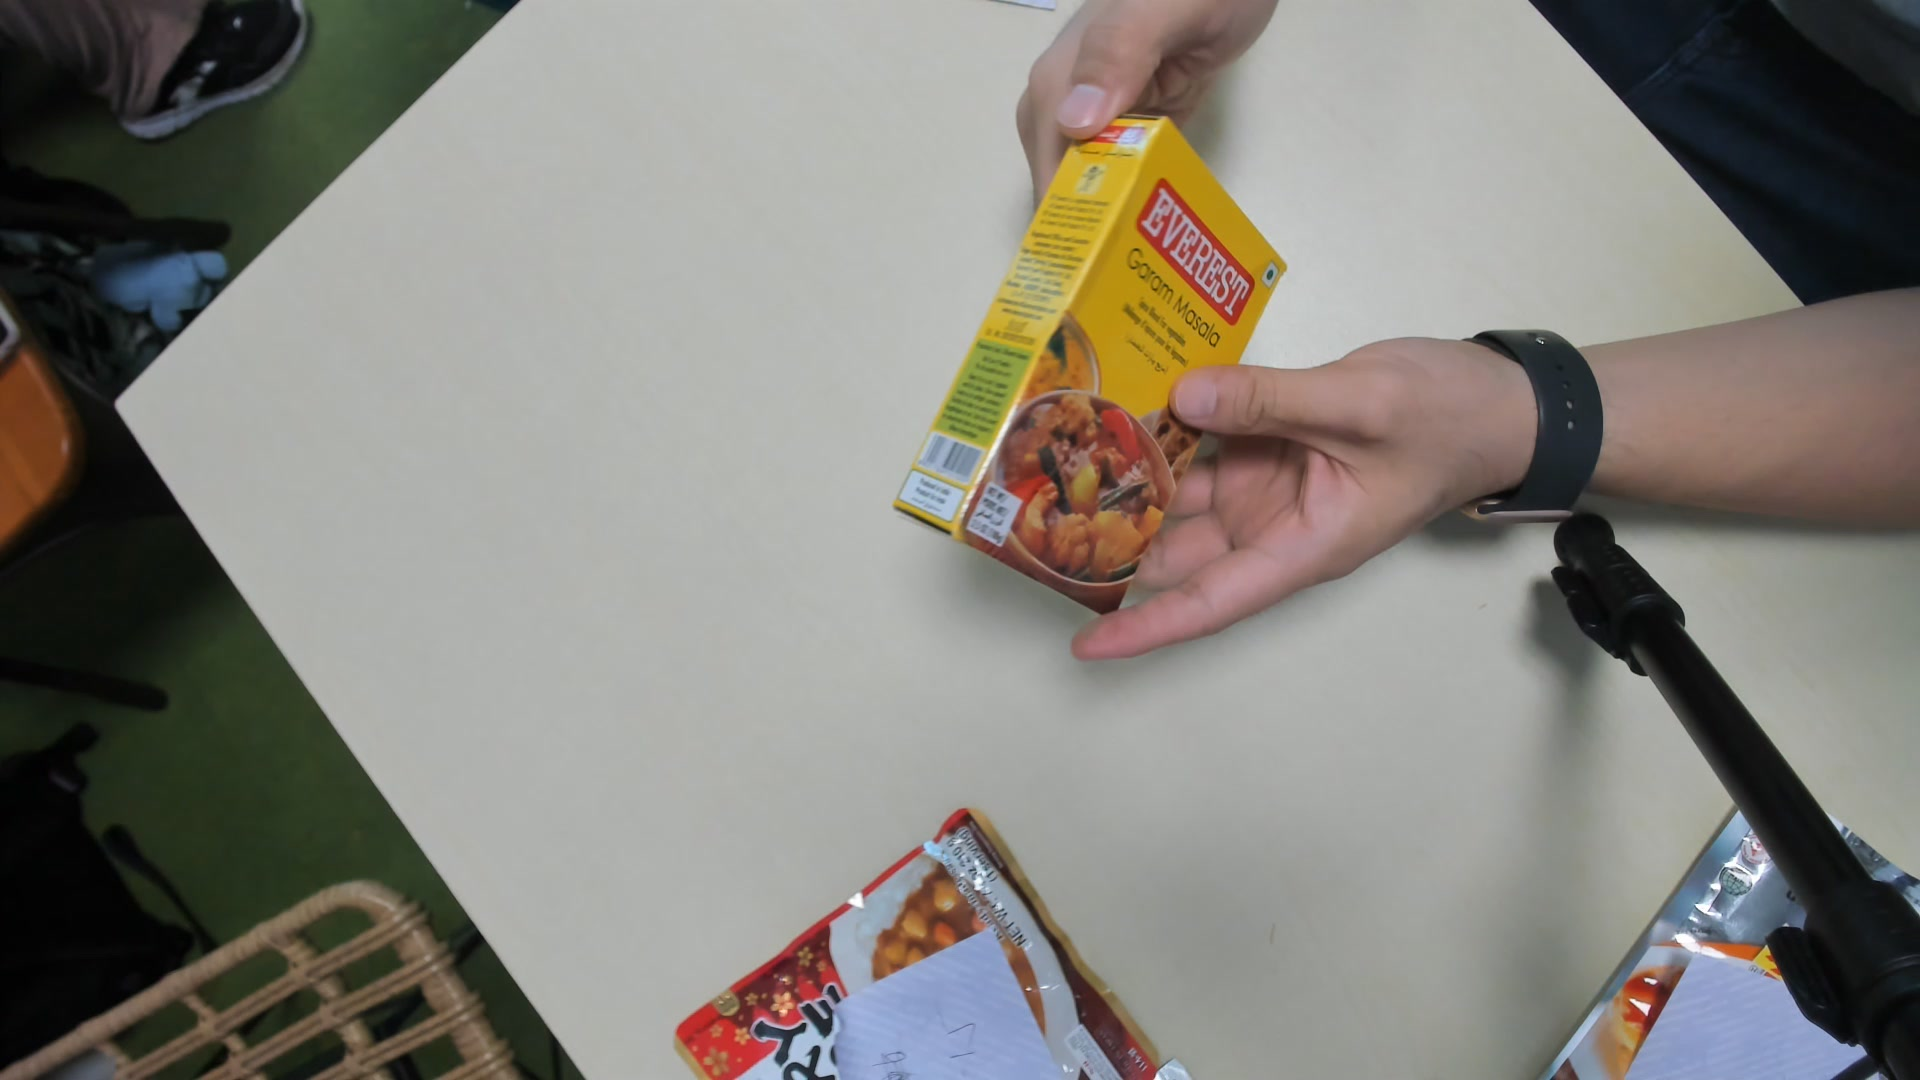CurryPastePowderSauce_100-199g_NonHalal_NonHealthy: (894, 105, 1288, 620)
